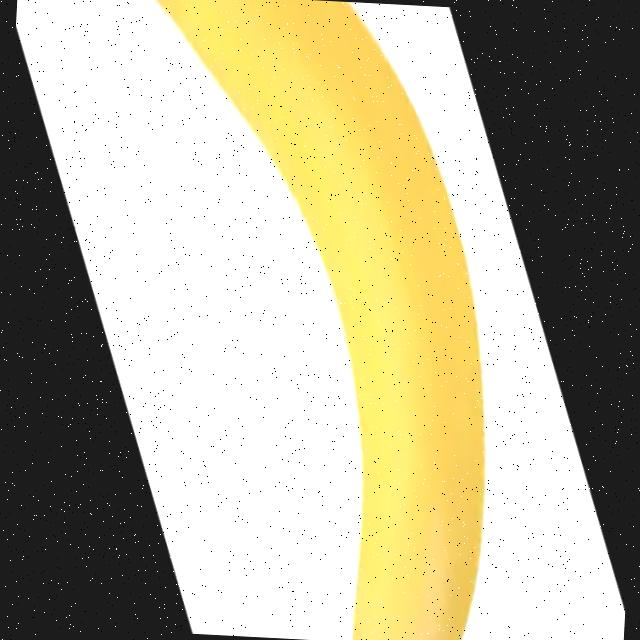Ripe: (120, 0, 514, 640)
